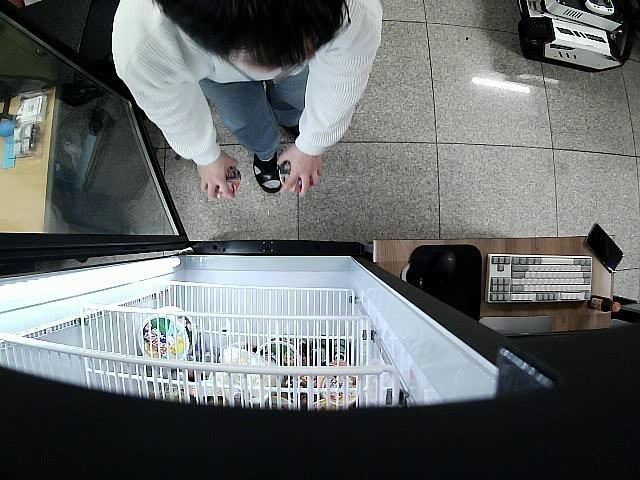08_buldak_S: (204, 165, 242, 201), (278, 158, 316, 190)
